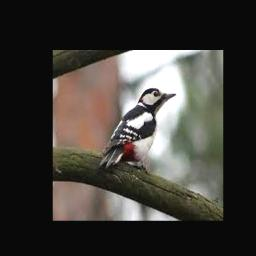Woodpecker: (99, 88, 177, 173)
